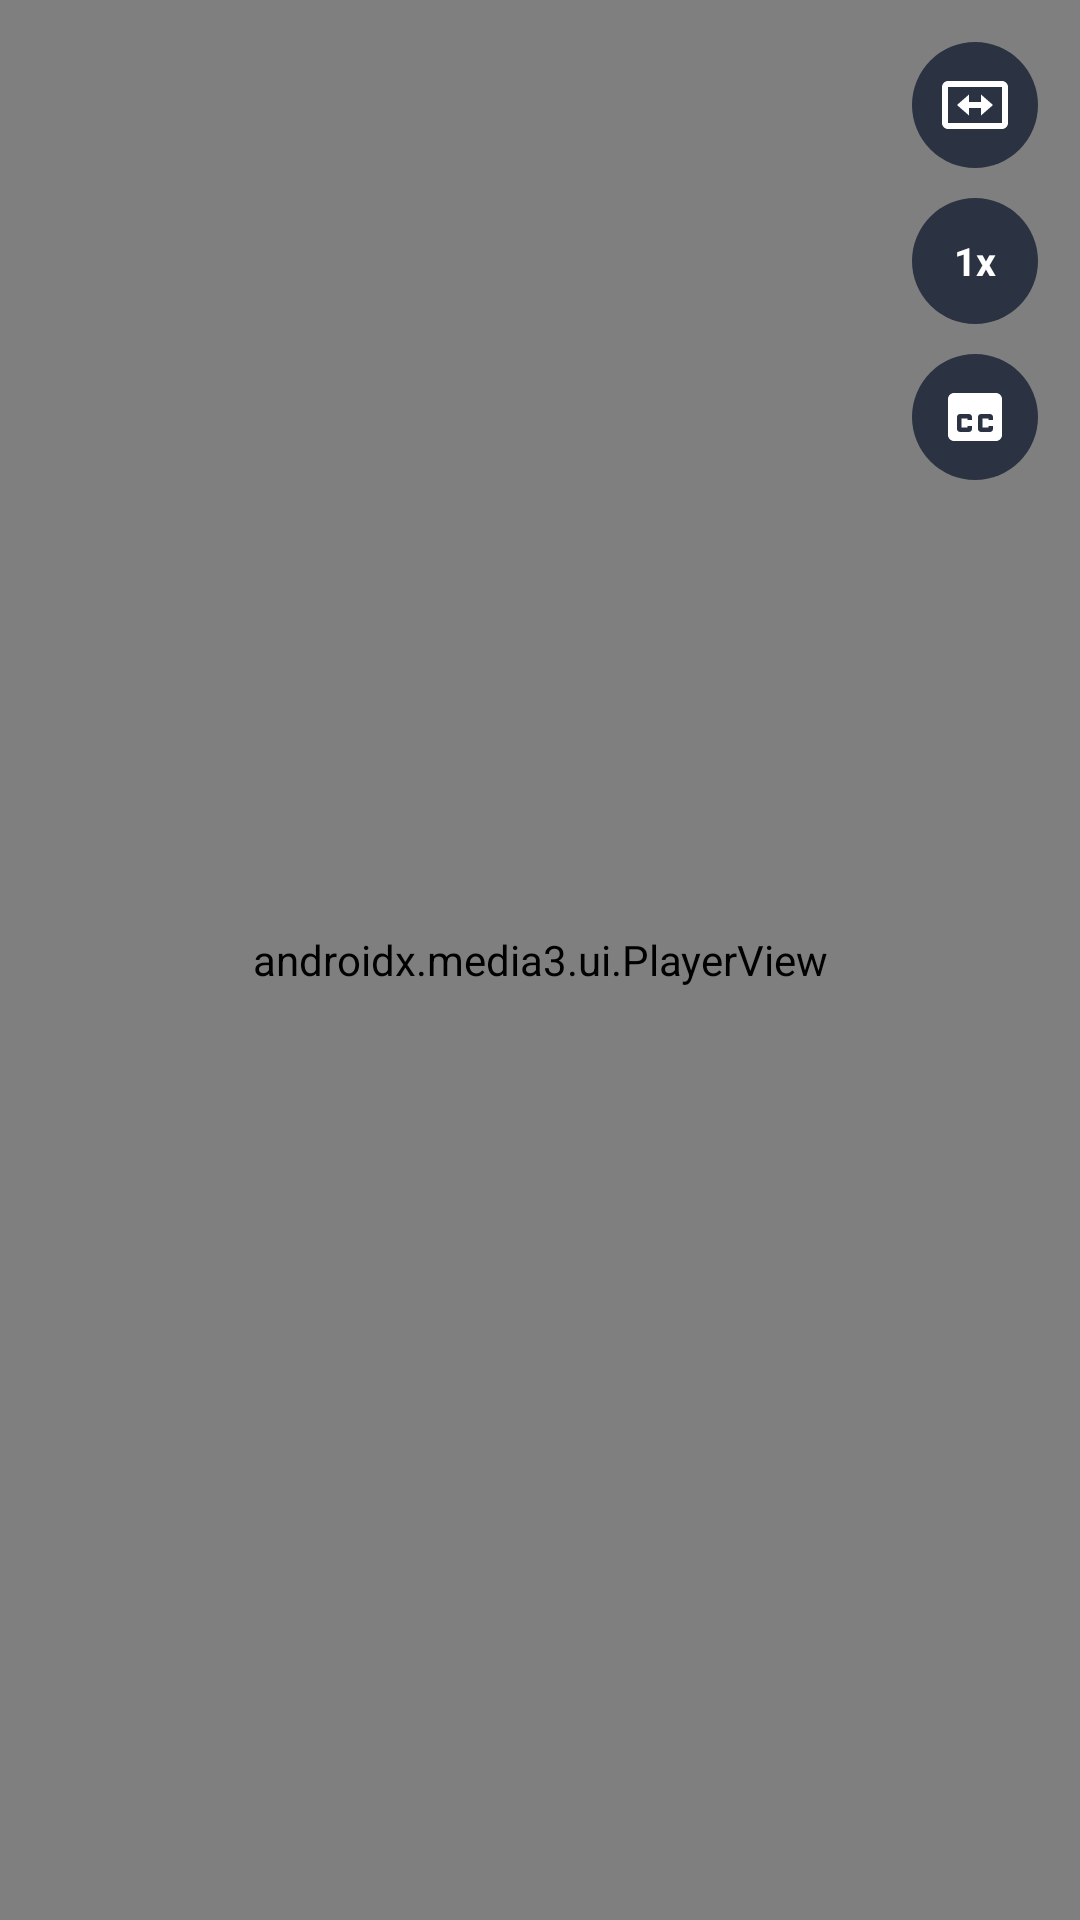

Locate icon controls on the screen. Image size 1080px x 1920px, boxes as (x1, y1, x2, y2).
Aspect ratio: (912, 42, 1038, 168)
Subtitles: (912, 354, 1038, 480)
